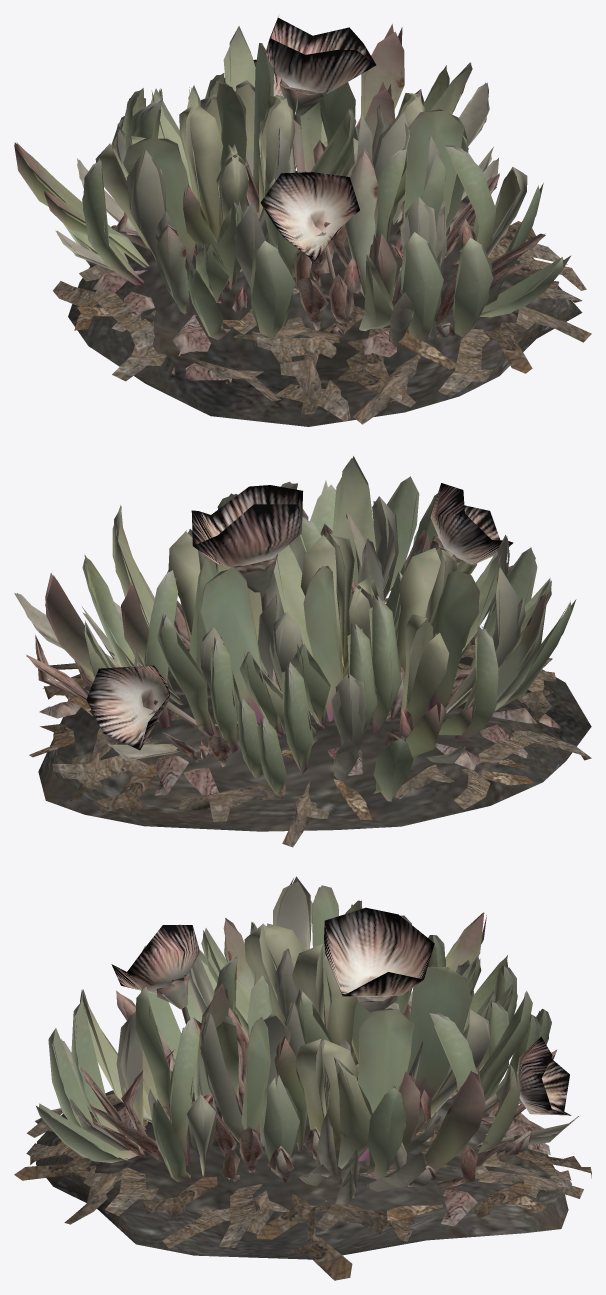
The model's file is cheiridopsis_succulent_i.gltf.lod.glb.
3 renders of one model, top to bottom at view 1: azimuth 30°, elevation 25°; view 2: azimuth 150°, elevation 25°; view 3: azimuth 270°, elevation 25°, orthographic. The views are drawn at different scales.
Visible parts, largest first — view 1: cheiridopsis_succulent_i_LOD0; view 2: cheiridopsis_succulent_i_LOD0; view 3: cheiridopsis_succulent_i_LOD0.
Boxes of the visible parts, box(x1,y1,x2,y2) form: cheiridopsis_succulent_i_LOD0: box(14, 16, 591, 426); cheiridopsis_succulent_i_LOD0: box(14, 456, 591, 847); cheiridopsis_succulent_i_LOD0: box(14, 876, 591, 1280).
Size of the model in its own units: 0.5117 by 0.2679 by 0.5378.
Materials: 2 (2 with a texture image).
